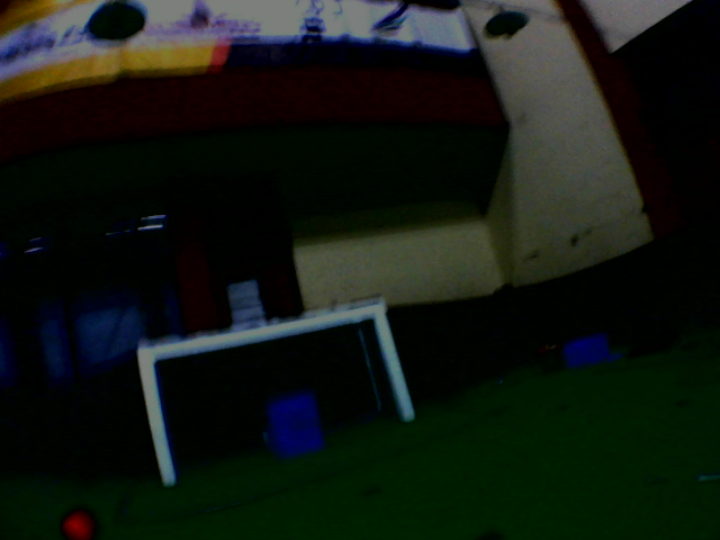bola: (53, 506, 98, 540)
